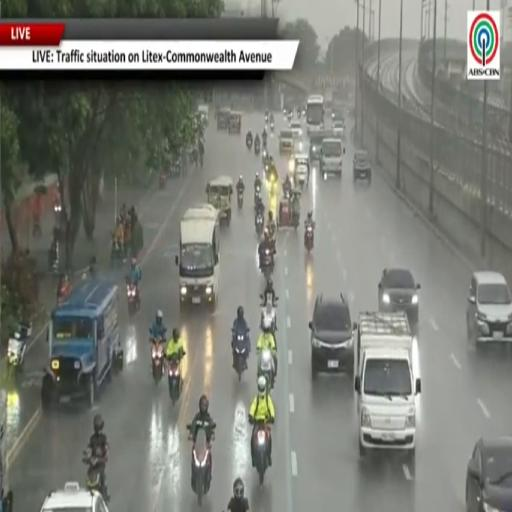bus: (42, 279, 122, 409), (306, 94, 324, 135)
car: (309, 294, 356, 378), (466, 437, 511, 511), (467, 271, 511, 344), (378, 268, 420, 333), (41, 483, 108, 511), (353, 150, 371, 182), (279, 130, 293, 154), (289, 120, 302, 137), (333, 121, 344, 139)
jeepney: (206, 176, 233, 225), (217, 108, 230, 131), (228, 111, 241, 134)
motorcycle: (192, 429, 211, 506), (83, 451, 108, 502), (7, 323, 31, 376), (252, 422, 270, 485), (233, 330, 248, 380), (258, 349, 274, 389), (168, 357, 181, 405), (261, 294, 276, 335), (152, 339, 164, 383), (127, 280, 139, 316), (261, 248, 273, 280), (48, 239, 59, 273), (111, 238, 125, 264), (57, 282, 71, 305), (304, 224, 314, 252), (255, 213, 264, 236), (33, 217, 41, 237), (254, 185, 261, 207), (283, 182, 291, 199), (159, 173, 166, 189), (237, 189, 243, 207), (246, 134, 253, 149), (254, 140, 260, 155), (262, 150, 267, 167), (288, 110, 293, 122), (262, 137, 267, 149), (200, 153, 203, 169), (270, 122, 274, 134), (297, 109, 301, 119), (265, 115, 268, 124)
truck: (354, 312, 420, 458), (176, 204, 220, 309), (0, 390, 7, 495)
